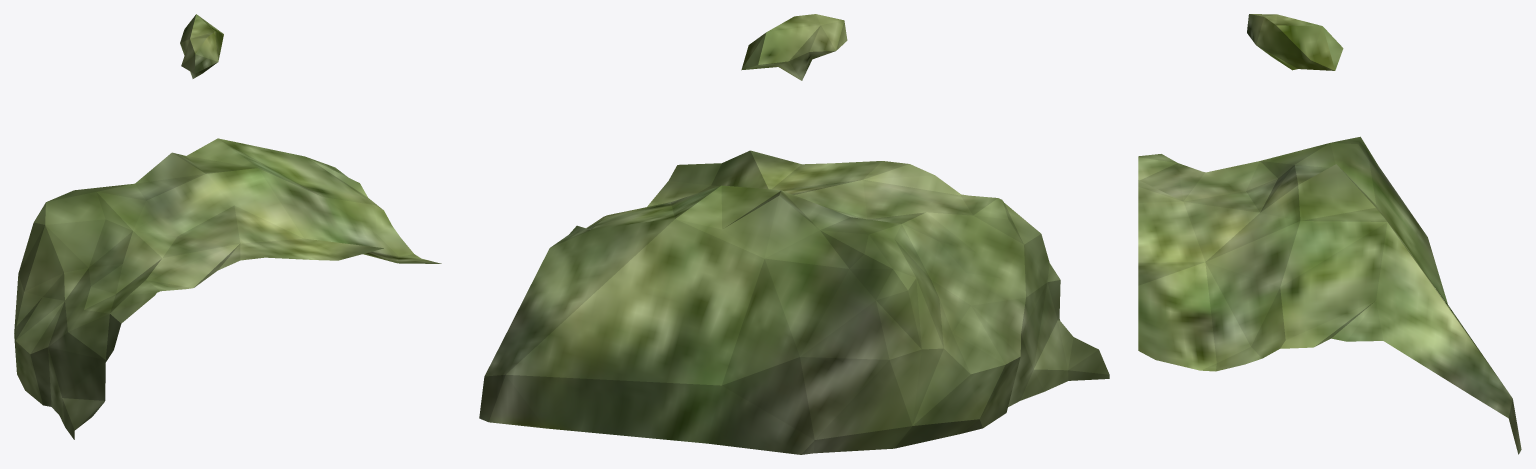
The picture shows the model from 3 angles, left to right: view 1: azimuth 30°, elevation 25°; view 2: azimuth 150°, elevation 25°; view 3: azimuth 270°, elevation 25°; orthographic projection. The views are drawn at different scales.
Size of the model in its own units: 0.8478 by 0.6693 by 0.6783.
Materials: 1 (1 with a texture image).
